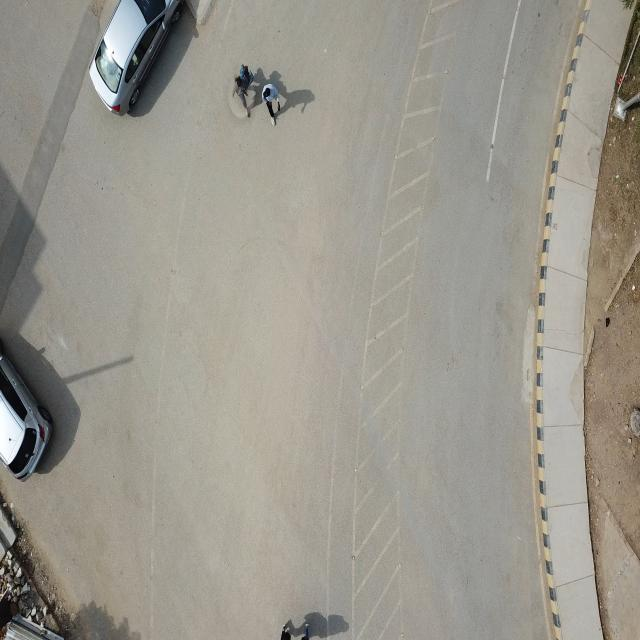Manusia: (232, 64, 254, 118), (262, 76, 282, 126)
